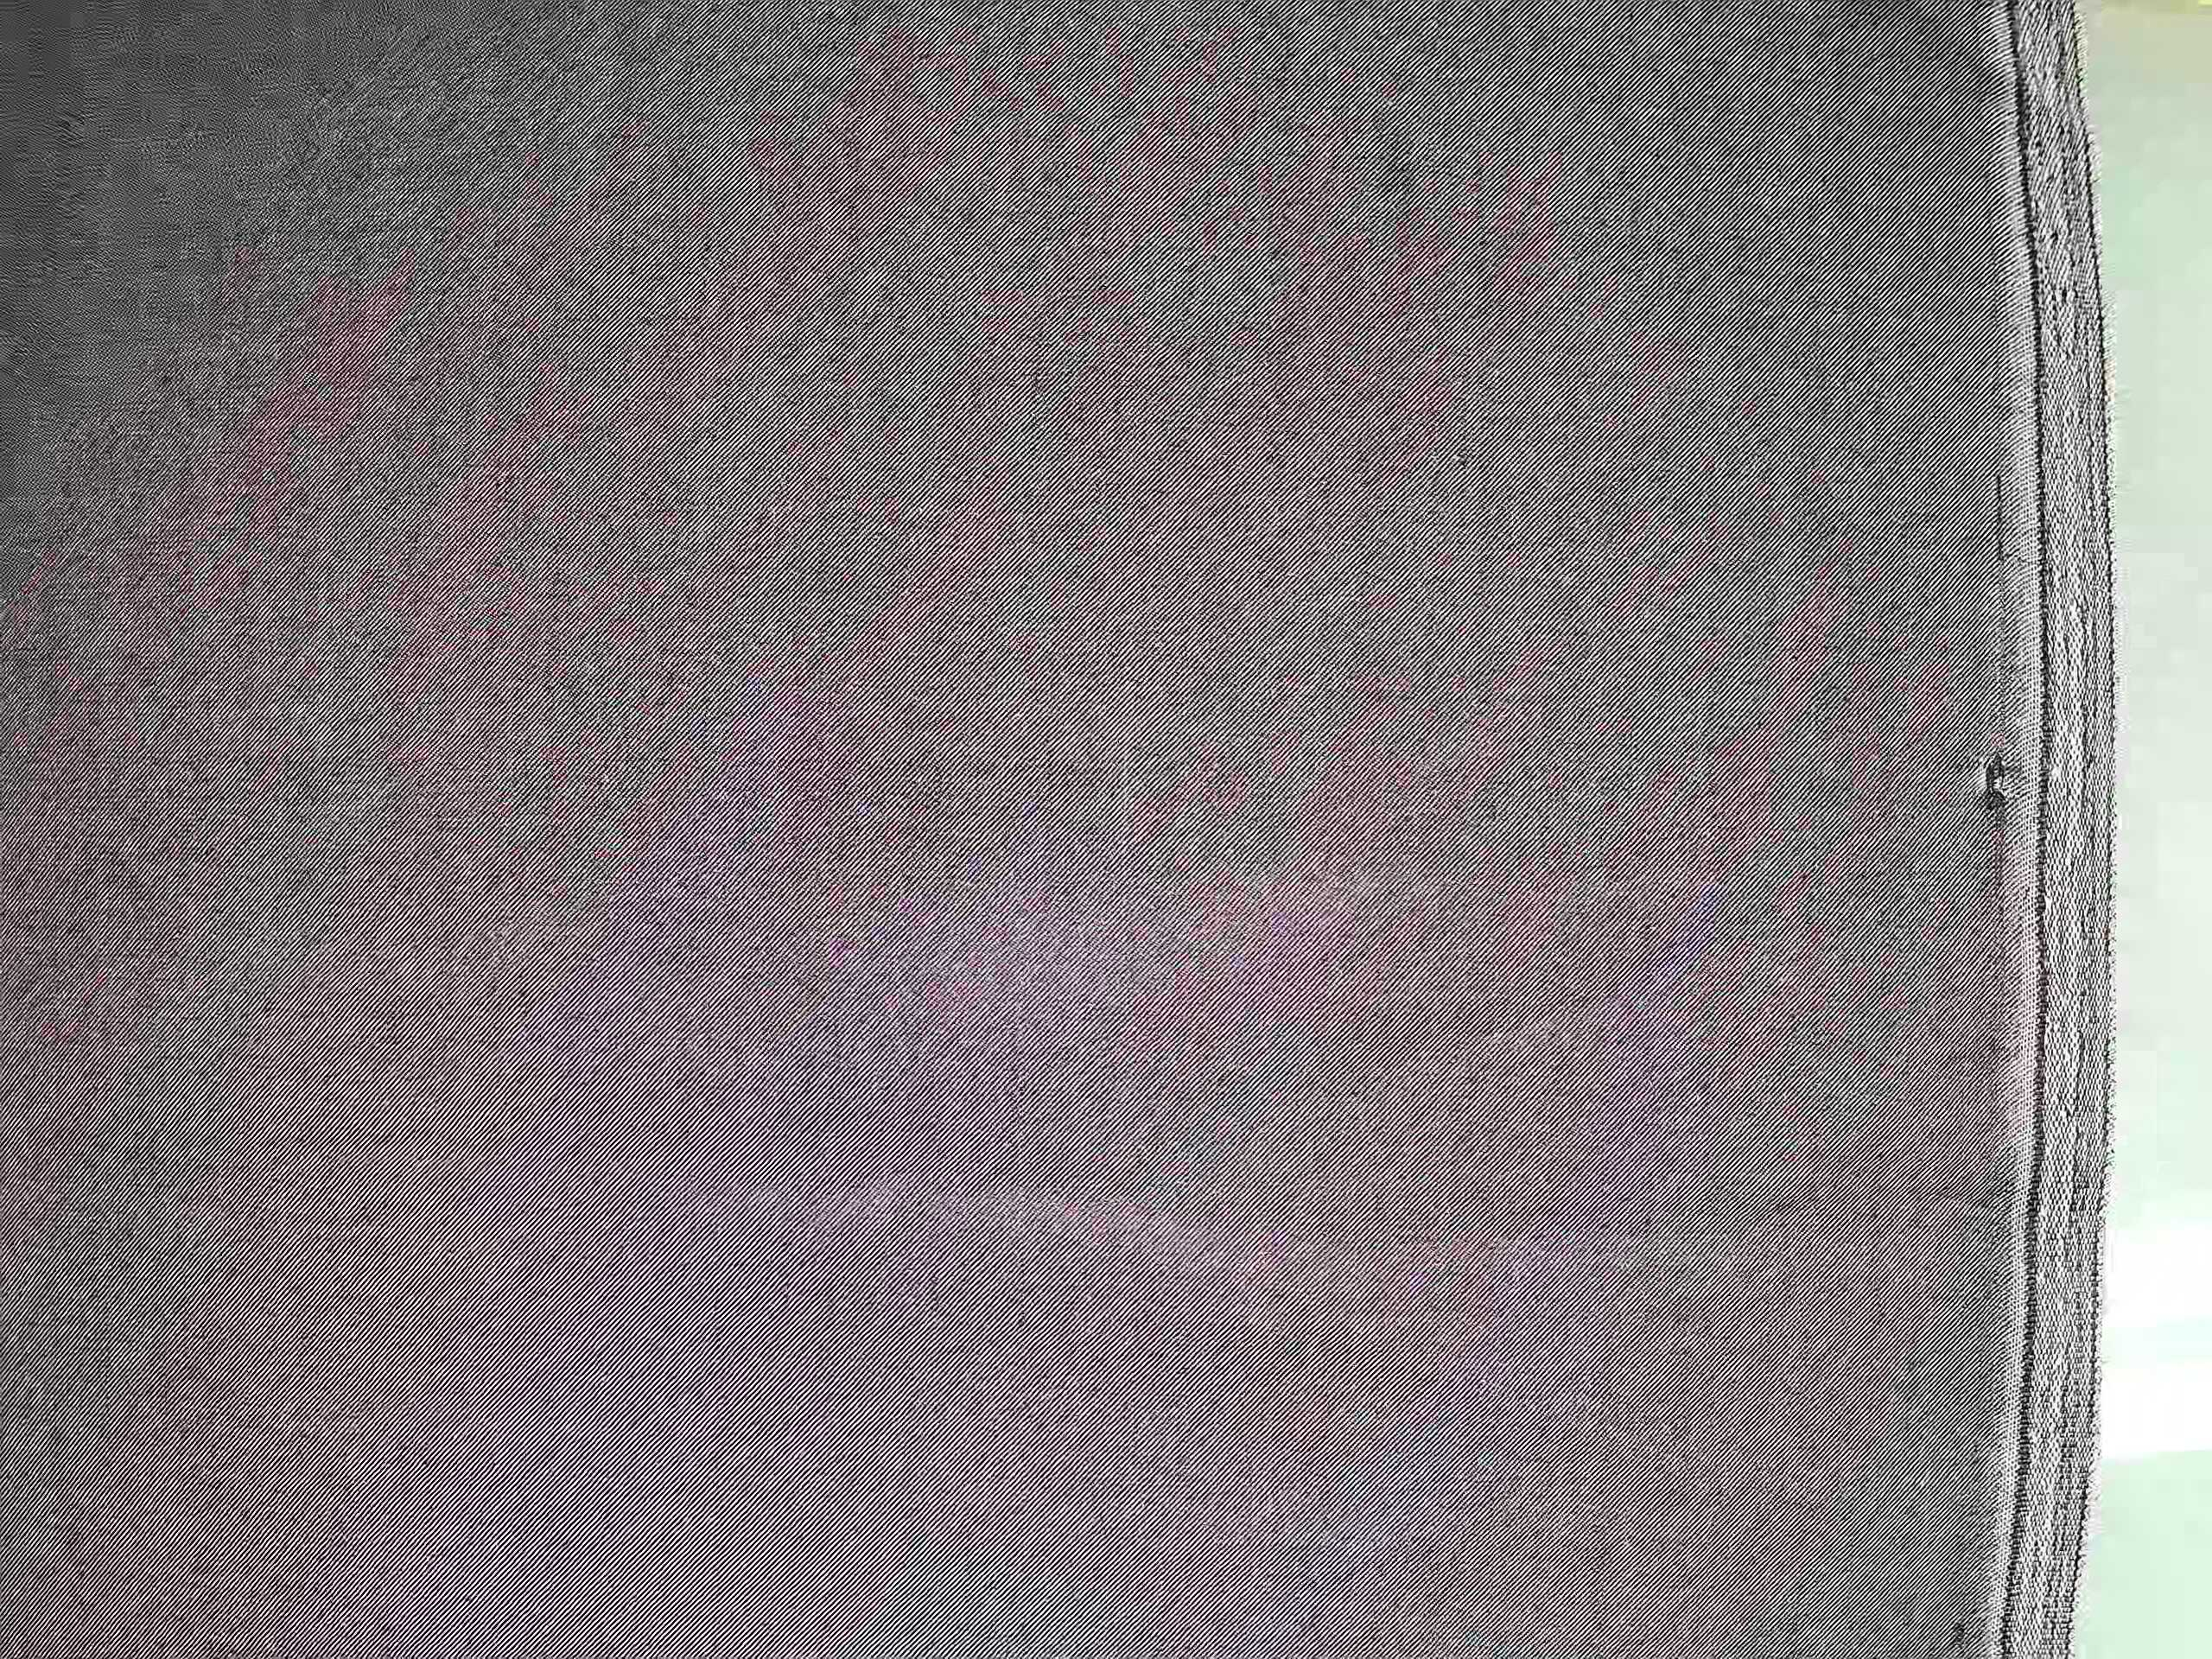rubbing-hole: (1966, 725, 2024, 838)
